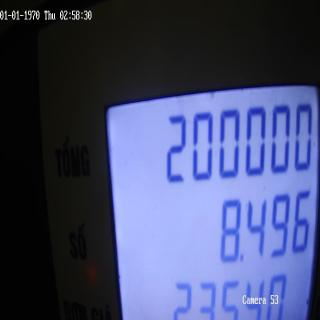screen: (96, 63, 319, 320)
